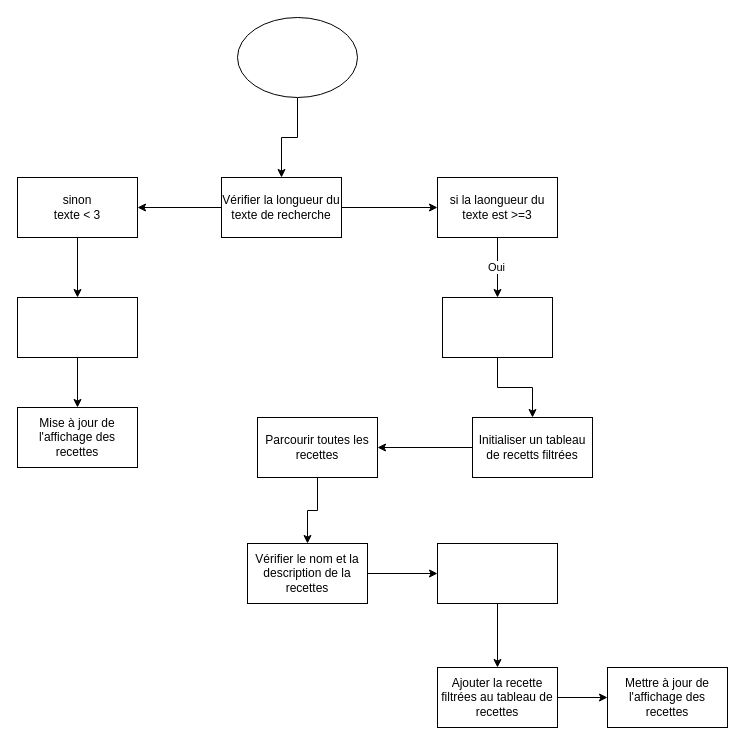
This 745x745 diagram has some shape labels left out. Each missing label, with the centre of its shape:
Début: (297,57)
Nettoyer et normaliser le texte de recherche: (497,327)
Utiliser toutes les recettes non filtrées: (77,327)
Vérifier les ingredients de la recttes: (497,573)
